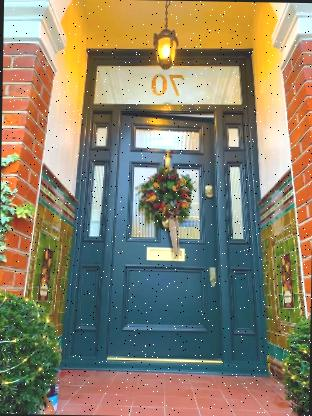door: (59, 40, 266, 378)
